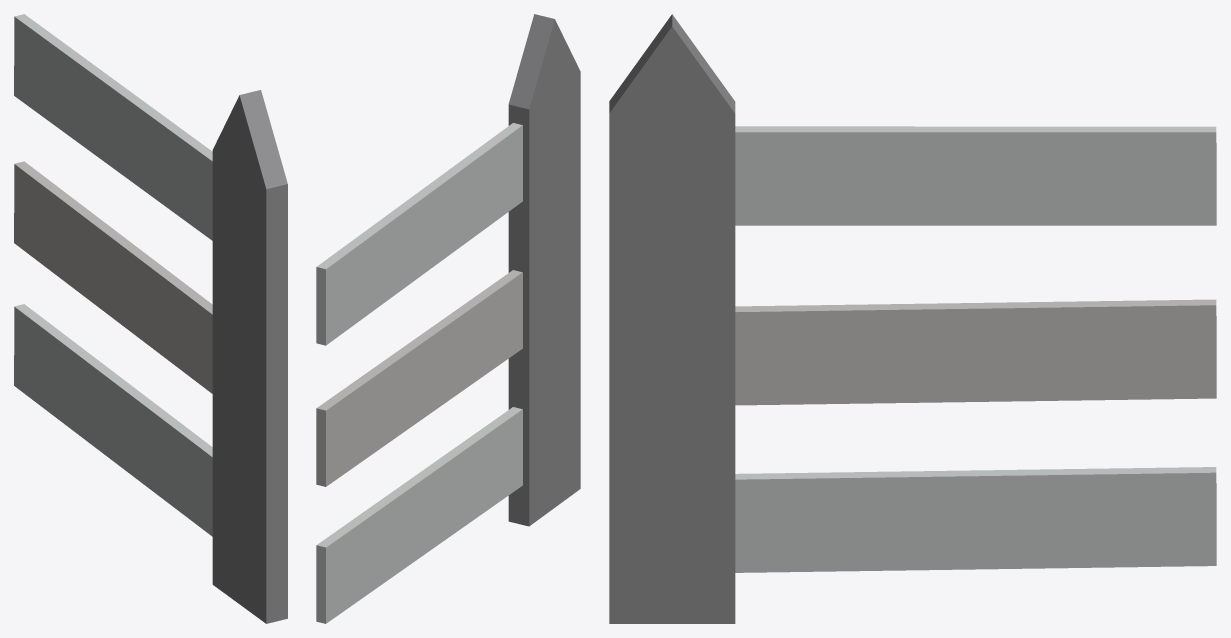
The model's file is FencePicketWhiteSmall_01.glb.
3 renders of one model, left to right at view 1: azimuth 30°, elevation 25°; view 2: azimuth 150°, elevation 25°; view 3: azimuth 270°, elevation 25°, orthographic. The views are drawn at different scales.
Visible parts, largest first — view 1: FencePicketWhiteSmall_01; view 2: FencePicketWhiteSmall_01; view 3: FencePicketWhiteSmall_01.
Part boxes in pixels (x1,y1,x2,y2): FencePicketWhiteSmall_01: (14, 14, 287, 623); FencePicketWhiteSmall_01: (316, 14, 580, 623); FencePicketWhiteSmall_01: (609, 14, 1216, 623).
Size of what is drawn, in the model's own units: 0.0534 by 1.21 by 1.11.
1 material, 1 textured.
